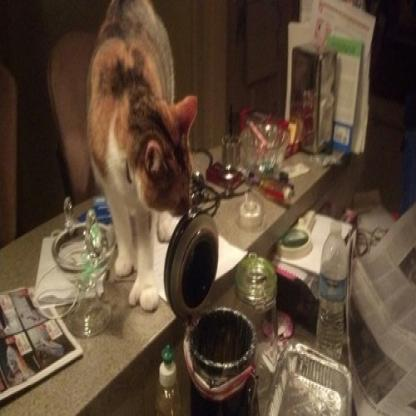Target: (82, 4, 195, 315)
